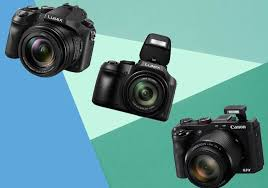camera: (8, 3, 94, 78), (172, 120, 264, 185), (96, 58, 175, 121)
